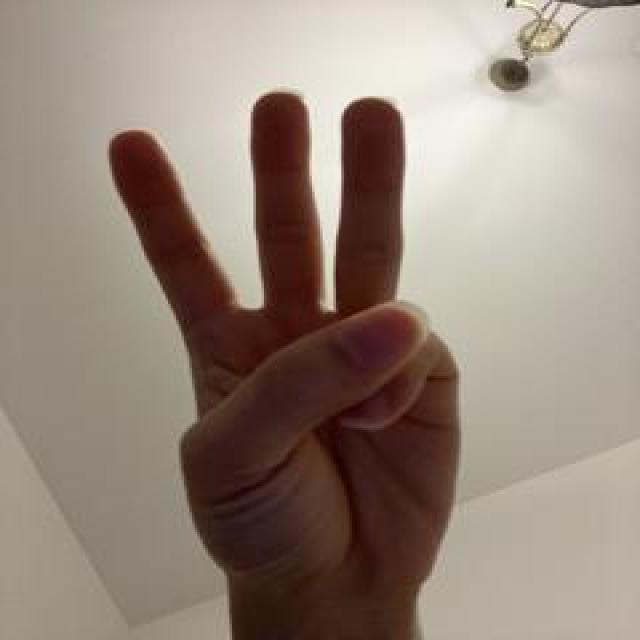W: (100, 85, 468, 607)
